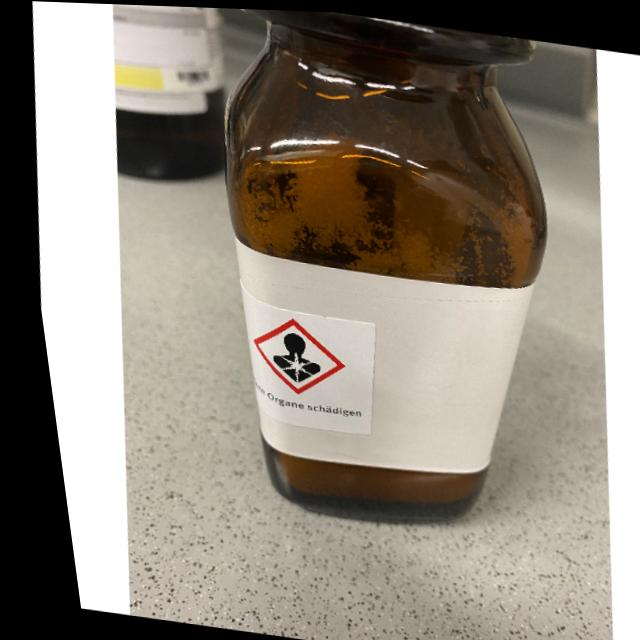serious health hazard: (233, 310, 344, 399)
